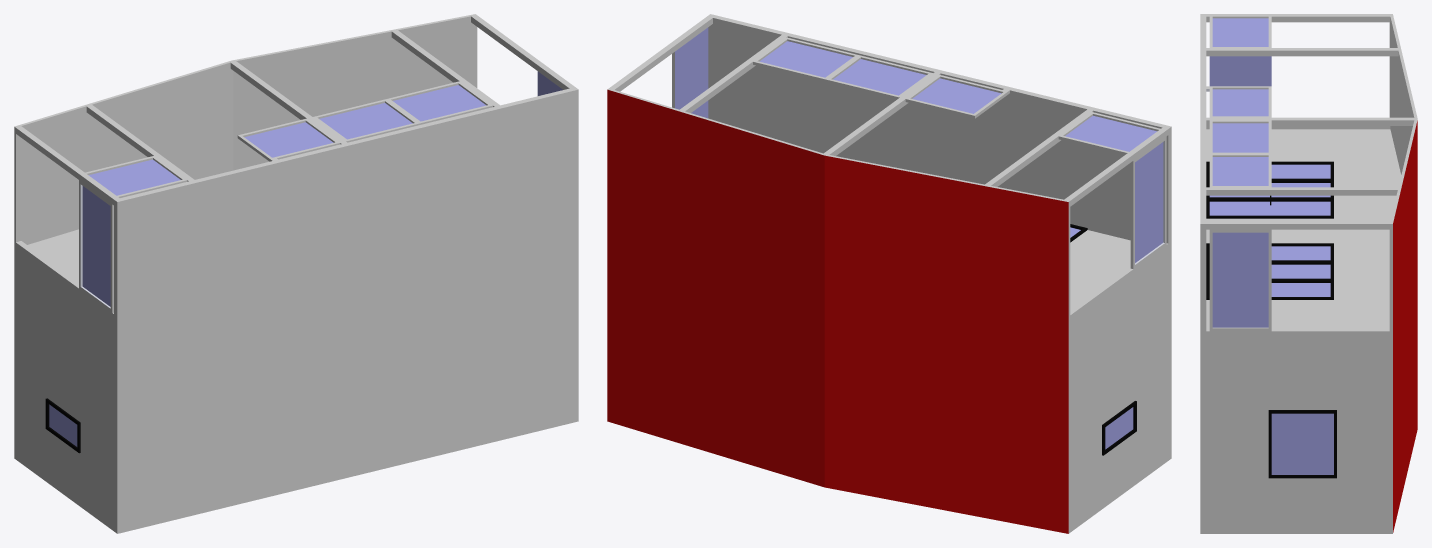
File: mobile_home_premium_petfriendly_polidor.glb
3 views of the same model, side by side, from view 1: azimuth 30°, elevation 25°; view 2: azimuth 150°, elevation 25°; view 3: azimuth 270°, elevation 25° (orthographic). The views are drawn at different scales.
Visible parts, largest first — view 1: 3DGeom-175, 3DGeom-177; view 2: 3DGeom-174, 3DGeom-175, 3DGeom-177, 3DGeom-176; view 3: 3DGeom-175, 3DGeom-177, 3DGeom-174, 3DGeom-176.
Part boxes in pixels (box(x1,y1,x2,y2)): 3DGeom-175: box(14, 14, 578, 533); 3DGeom-177: box(49, 71, 562, 446); 3DGeom-174: box(607, 89, 1068, 533); 3DGeom-175: box(607, 14, 1171, 533); 3DGeom-177: box(675, 27, 1163, 449); 3DGeom-176: box(1070, 224, 1136, 455); 3DGeom-175: box(1200, 14, 1417, 533); 3DGeom-177: box(1209, 18, 1333, 474); 3DGeom-174: box(1393, 120, 1417, 532); 3DGeom-176: box(1206, 161, 1336, 478).
Size of the model in its own units: 0.00806 by 0.00553 by 0.0035.
